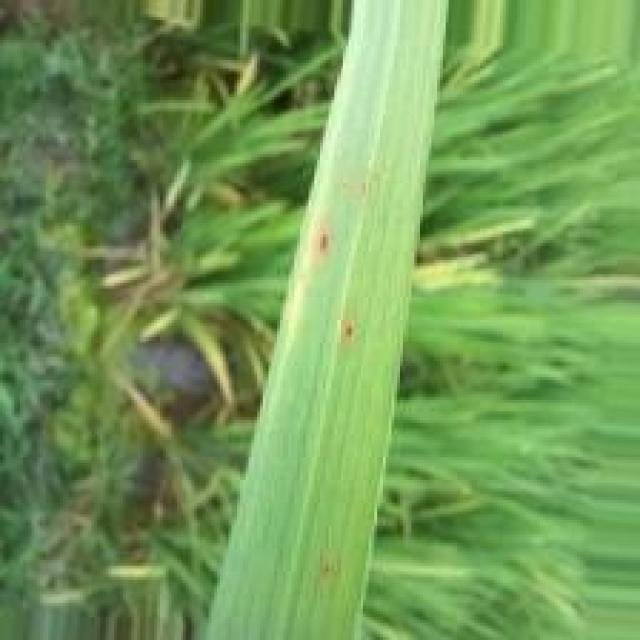Brown_Spot: (314, 221, 335, 265), (347, 318, 357, 343)
